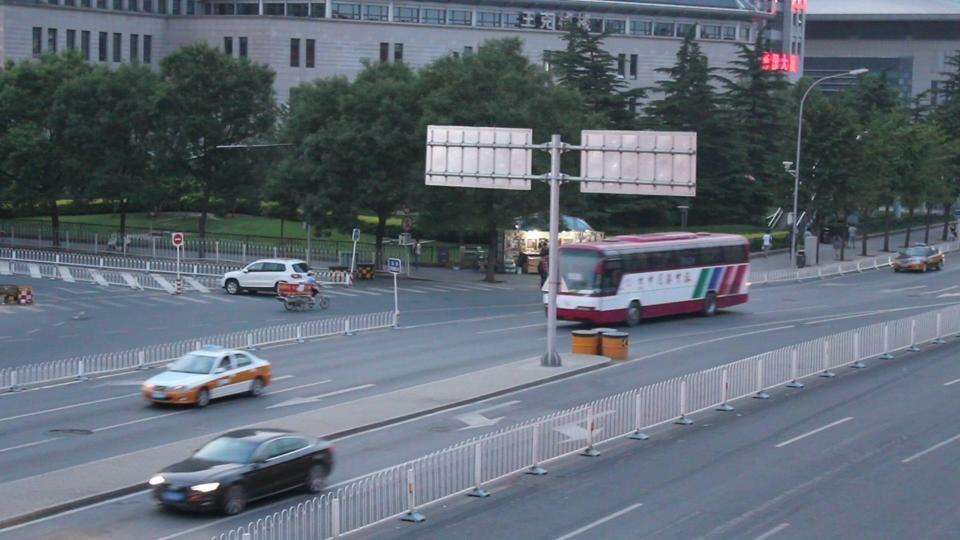car: (148, 427, 336, 517), (140, 344, 273, 409), (221, 259, 319, 297), (891, 244, 945, 273)
